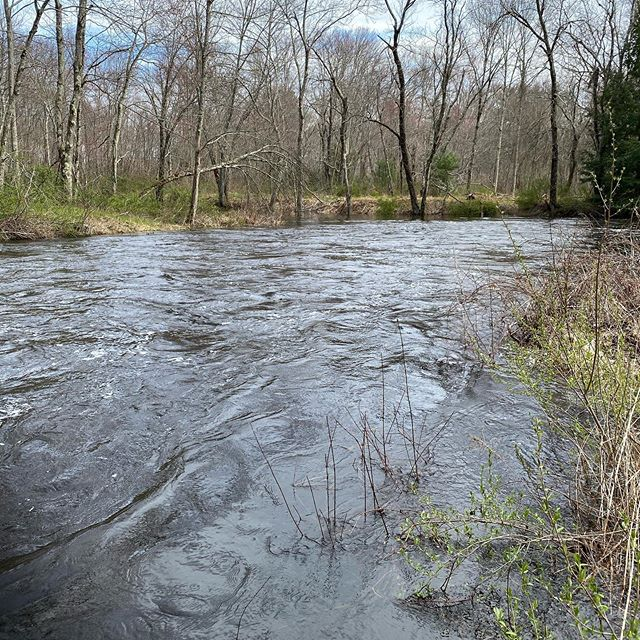river: (1, 223, 593, 640)
tree: (137, 1, 275, 218), (1, 1, 138, 201), (364, 1, 479, 222), (486, 1, 587, 221), (301, 1, 382, 223)
